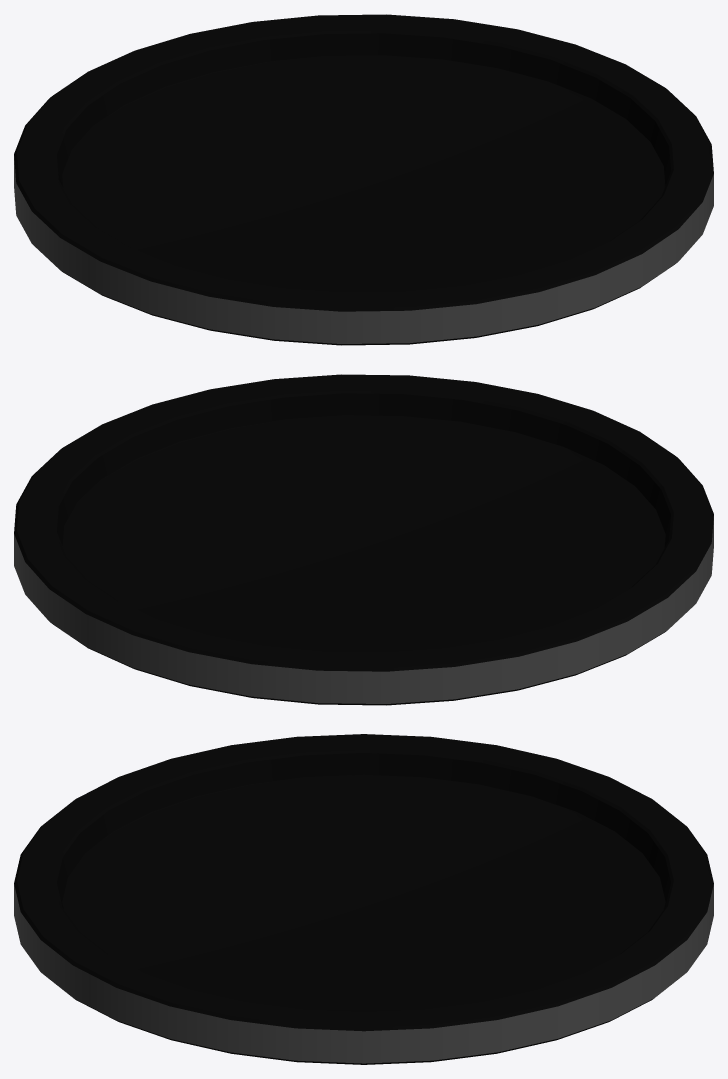
The model's file is plate.fbx.
3 renders of one model, top to bottom at view 1: azimuth 30°, elevation 25°; view 2: azimuth 150°, elevation 25°; view 3: azimuth 270°, elevation 25°, orthographic.
Visible parts, largest first — view 1: Cylinder; view 2: Cylinder; view 3: Cylinder.
Boxes of the visible parts, x1,y1,x2,y2 form: Cylinder: [14, 14, 713, 345]; Cylinder: [14, 374, 713, 705]; Cylinder: [14, 734, 713, 1064].
Bounding box in the file's own units: 200 × 11.83 × 200.
